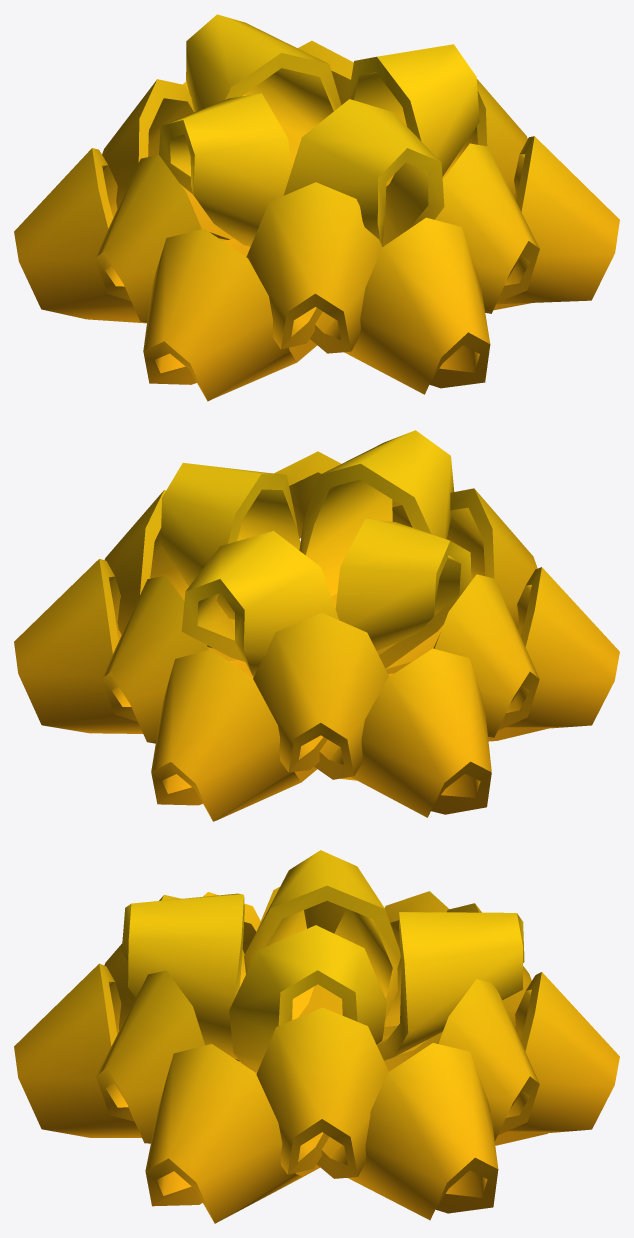
The model's file is bow_013.fbx.
The picture shows the model from 3 angles, top to bottom: view 1: azimuth 30°, elevation 25°; view 2: azimuth 150°, elevation 25°; view 3: azimuth 270°, elevation 25°; orthographic projection.
Visible parts, largest first — view 1: bow_013; view 2: bow_013; view 3: bow_013.
Part boxes in pixels (left/top/right/bottom): bow_013: left=14, top=14, right=619, bottom=401; bow_013: left=14, top=430, right=619, bottom=821; bow_013: left=14, top=850, right=619, bottom=1223.
Size of the model in its own units: 231 by 256 by 115.
